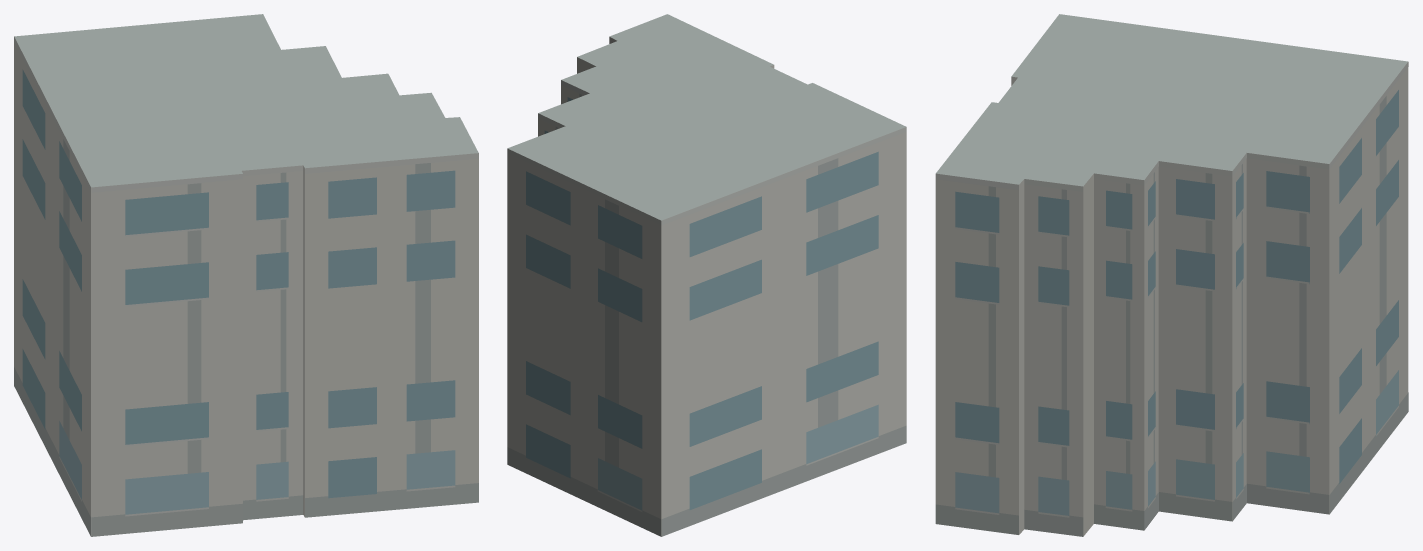
The model's file is survey-upis-32991372.glb.
3 renders of one model, left to right at view 1: azimuth 30°, elevation 25°; view 2: azimuth 150°, elevation 25°; view 3: azimuth 270°, elevation 25°, orthographic. The views are drawn at different scales.
Visible parts, largest first — view 1: survey-upis-32991372.tmp; view 2: survey-upis-32991372.tmp; view 3: survey-upis-32991372.tmp.
Part boxes in pixels (bbox=[...]): survey-upis-32991372.tmp: bbox=[14, 14, 478, 536]; survey-upis-32991372.tmp: bbox=[507, 14, 906, 536]; survey-upis-32991372.tmp: bbox=[935, 14, 1408, 536].
Size of the model in its own units: 16.11 by 15.25 by 18.66.
